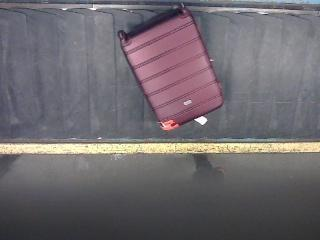Suitcase: (119, 4, 222, 130)
